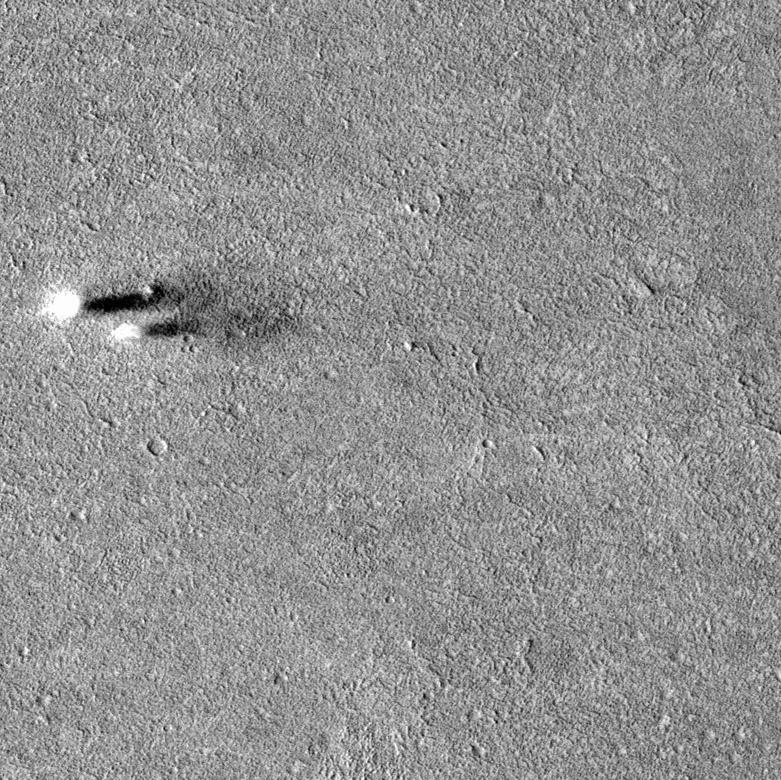dust_devil: (37, 280, 184, 326), (106, 309, 202, 344)
